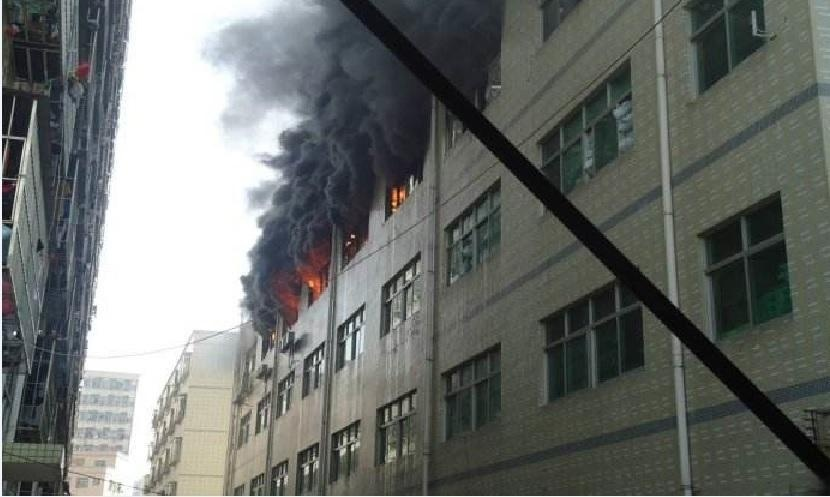fire: (386, 178, 409, 209)
